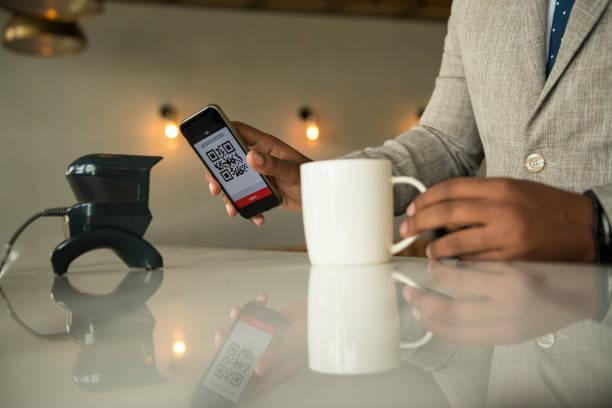Finder pattern: (221, 138, 237, 156), (219, 166, 235, 184), (205, 148, 221, 164)
